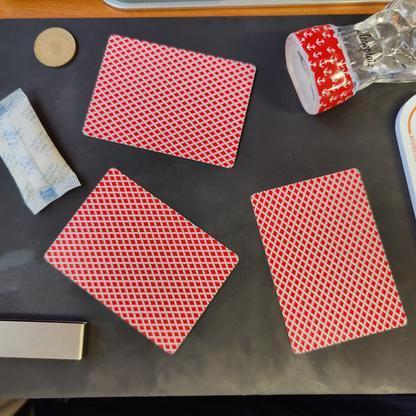card: (35, 162, 242, 362), (240, 162, 416, 358), (80, 29, 268, 173)
